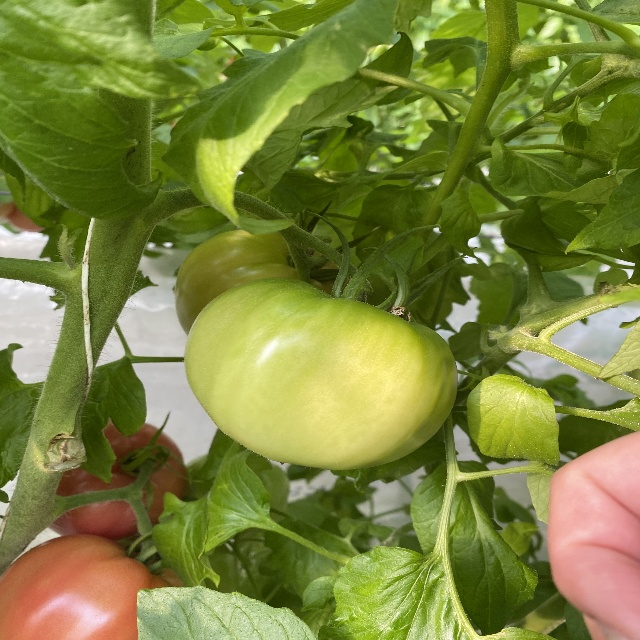b_fully_ripened: (46, 418, 189, 540)
b_green: (182, 277, 458, 471), (175, 228, 355, 335)
b_half_ripened: (1, 534, 185, 640)
